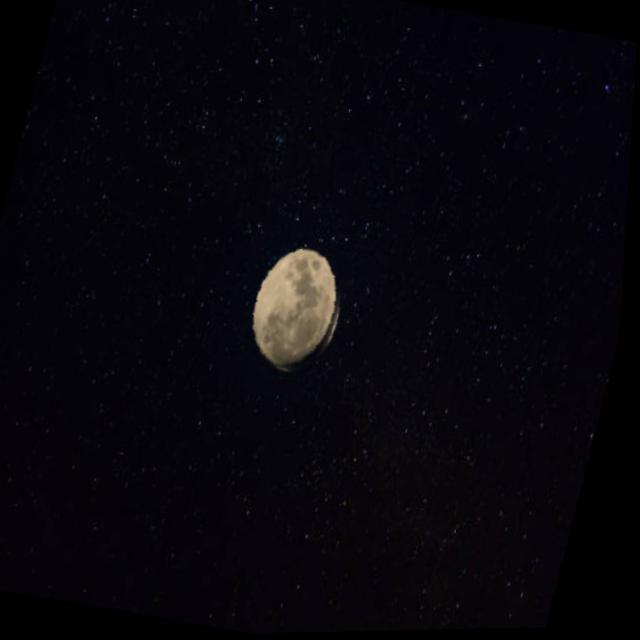moon: (243, 238, 363, 384)
